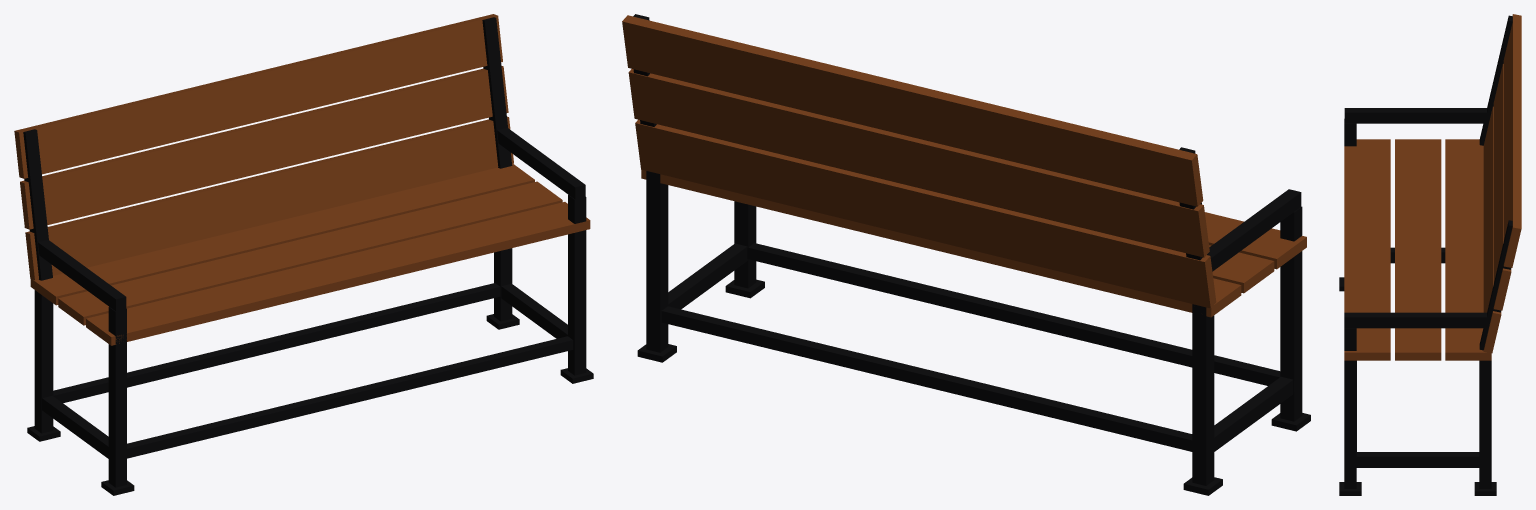
Rendered from SillaMadera.fbx.
3 renders of one model, left to right at view 1: azimuth 30°, elevation 25°; view 2: azimuth 150°, elevation 25°; view 3: azimuth 270°, elevation 25°, orthographic. The views are drawn at different scales.
Parts seen in each view (by area): view 1: Bench_BackSlat_3, Bench_BackSlat_2, Bench_BackSlat_1, Bench_SeatSlat_1, Bench_SeatSlat_2, Bench_SeatSlat_3, Bench_Stretcher001, Bench_Stretcher, Bench_FrontLeg, Bench_FrontLeg.001, Bench_BackLegLower, Bench_BackLegUpper (+6 smaller); view 2: Bench_BackSlat_3, Bench_BackSlat_1, Bench_BackSlat_2, Bench_Stretcher, Bench_Stretcher001, Bench_SeatSlat_3, Bench_BackLegLower, Bench_BackLegLower.001, Bench_FrontLeg, Bench_ArmBar, Bench_ArmBar001, Bench_SeatSlat_1 (+3 smaller); view 3: Bench_SeatSlat_2, Bench_SeatSlat_1, Bench_SeatSlat_3, Bench_BackSlat_3, Bench_BackSlat_2, Bench_ArmBar.001, Bench_BackSlat_1, Bench_ArmBar, Bench_ArmBar.002, Bench_BackLegLower.001, Bench_FrontLeg.001, Bench_BackLegUpper.001 (+5 smaller).
Boxes of the visible parts, x1,y1,x2,y2 form: Bench_BackSlat_3: (14, 14, 502, 178); Bench_BackSlat_2: (20, 65, 508, 229); Bench_BackSlat_1: (25, 116, 513, 280); Bench_SeatSlat_1: (86, 202, 590, 345); Bench_SeatSlat_2: (58, 181, 562, 325); Bench_SeatSlat_3: (30, 164, 534, 305); Bench_Stretcher001: (127, 336, 573, 458); Bench_Stretcher: (53, 283, 500, 403); Bench_FrontLeg: (108, 333, 126, 487); Bench_FrontLeg.001: (568, 230, 586, 375); Bench_BackLegLower: (34, 290, 53, 433); Bench_BackLegUpper: (23, 129, 52, 280); Bench_BackSlat_3: (622, 15, 1203, 206); Bench_BackSlat_1: (635, 119, 1216, 308); Bench_BackSlat_2: (628, 69, 1209, 257); Bench_Stretcher: (661, 306, 1192, 451); Bench_Stretcher001: (747, 243, 1294, 392); Bench_SeatSlat_3: (641, 169, 1241, 317); Bench_BackLegLower: (1192, 304, 1214, 485); Bench_BackLegLower.001: (646, 171, 668, 352); Bench_FrontLeg: (1280, 251, 1302, 421); Bench_ArmBar: (1208, 189, 1301, 271); Bench_ArmBar001: (1214, 376, 1293, 451); Bench_SeatSlat_1: (1205, 212, 1306, 269); Bench_SeatSlat_2: (1395, 139, 1441, 360); Bench_SeatSlat_1: (1344, 139, 1390, 360); Bench_SeatSlat_3: (1445, 139, 1491, 360); Bench_BackSlat_3: (1503, 14, 1521, 267); Bench_BackSlat_2: (1493, 64, 1511, 310); Bench_ArmBar.001: (1344, 312, 1486, 328); Bench_BackSlat_1: (1483, 106, 1501, 353); Bench_ArmBar: (1344, 108, 1486, 123); Bench_ArmBar.002: (1356, 452, 1479, 467); Bench_BackLegLower.001: (1479, 360, 1491, 488); Bench_FrontLeg.001: (1344, 360, 1356, 488); Bench_BackLegUpper.001: (1479, 220, 1512, 350).
Size of the model in its own units: 56.81 by 33.26 by 20.43.
